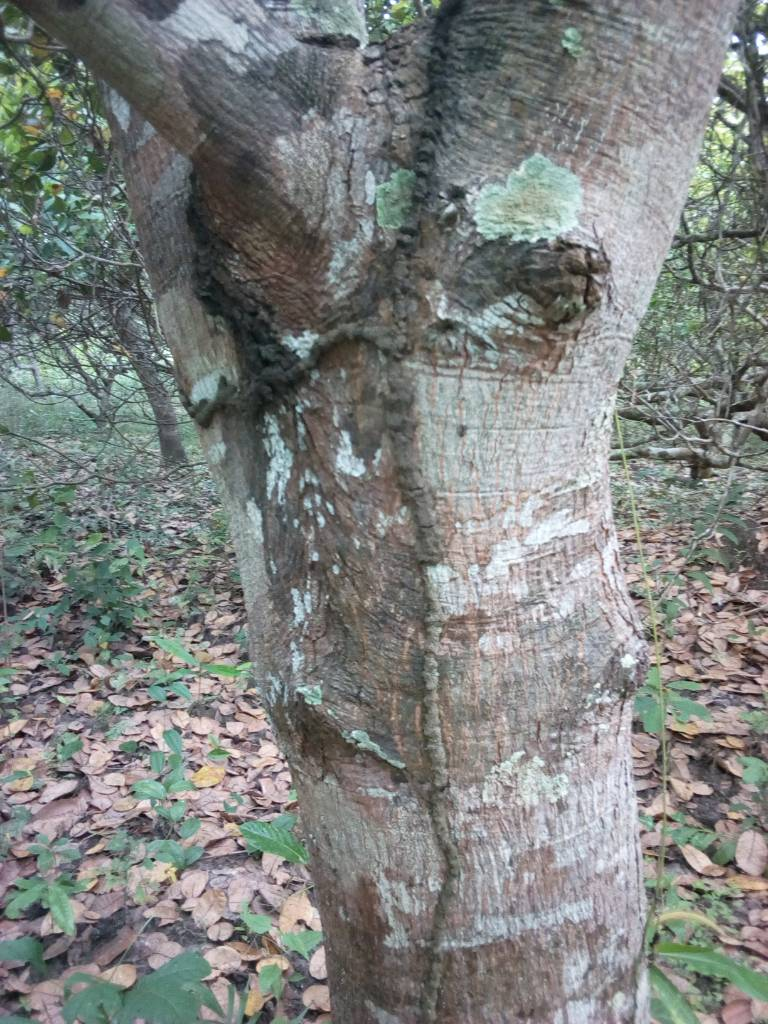Virose: (164, 150, 370, 500)
